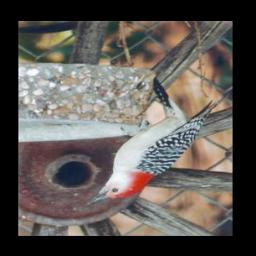Woodpecker: (81, 75, 231, 205)
